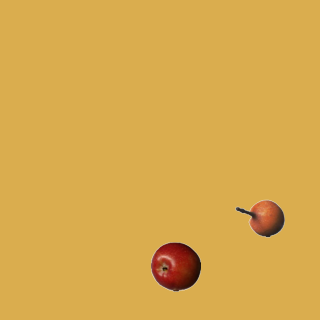Apple Braeburn: (150, 241, 200, 291)
Granadilla: (234, 193, 284, 243)
